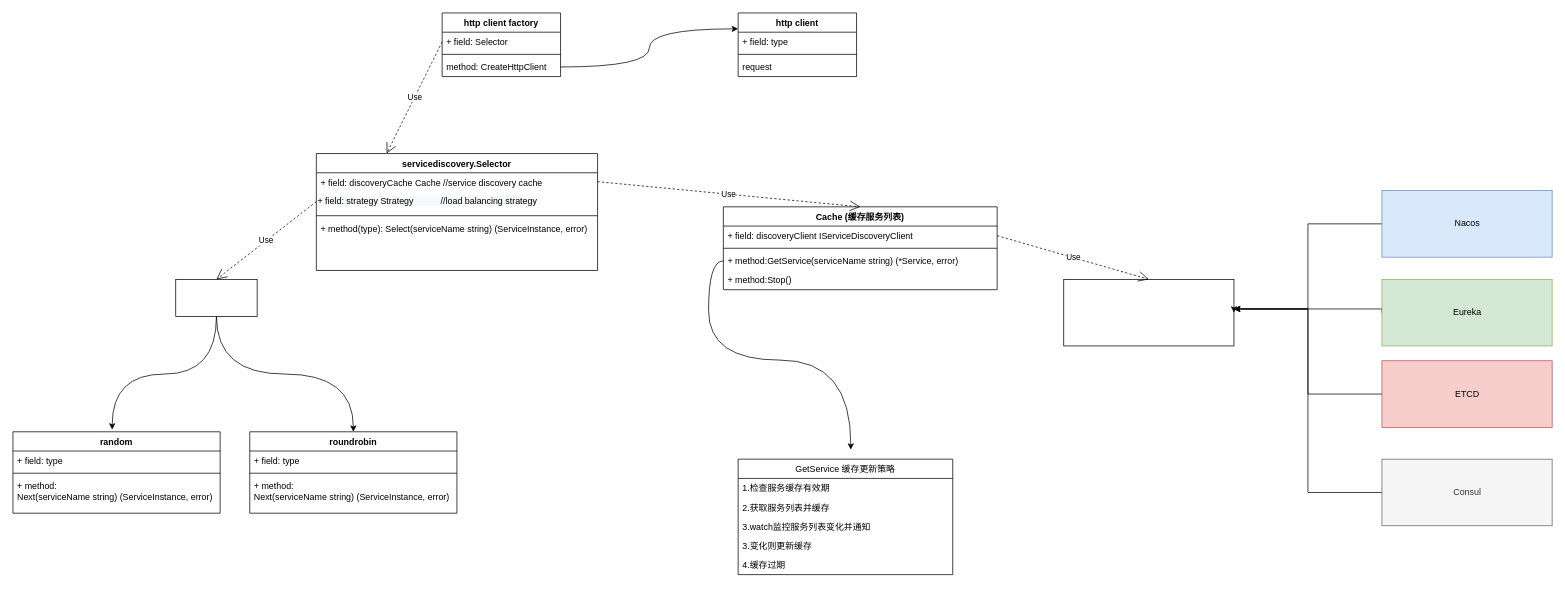
The diagram is 1565 pixels wide and 590 high, and some of its shapes have lost their labels. Each missing label, with the centre of its shape:
"«interface» IServiceDiscoveryClient 服务发布客户端 用于获取服务列表 watcher监听服务列表变化" belongs at (x=1148, y=312).
"«interface» Strategy" belongs at (x=216, y=297).
